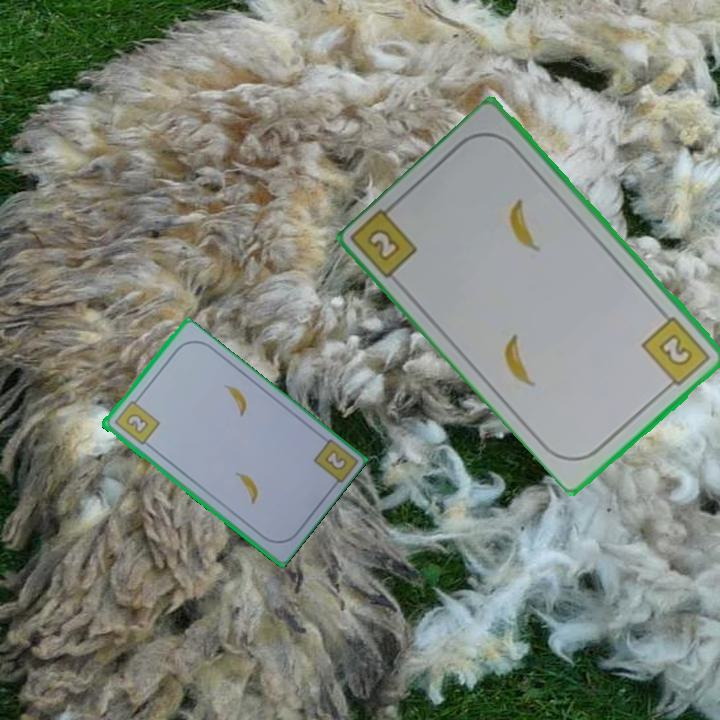2b: (638, 313, 714, 393), (110, 393, 162, 448), (367, 228, 400, 261), (320, 446, 350, 474)
